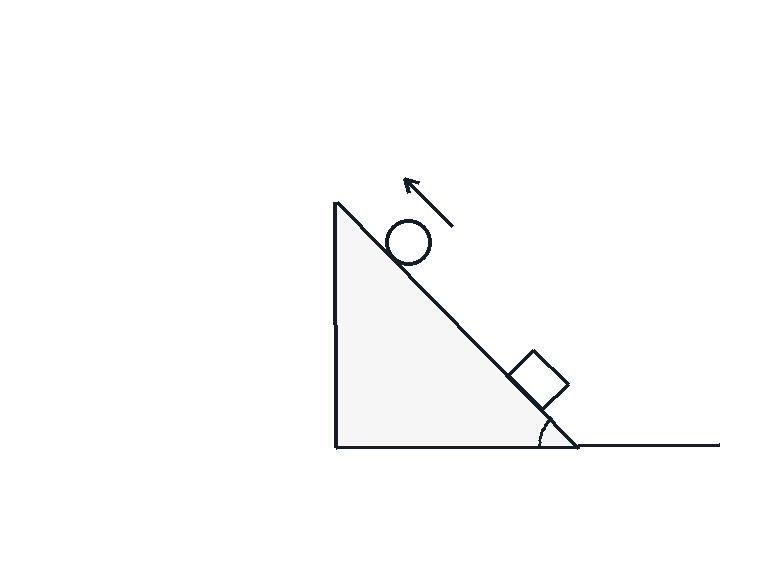ball: (383, 217, 433, 267)
block: (506, 348, 570, 411)
ramp: (334, 201, 581, 448)
